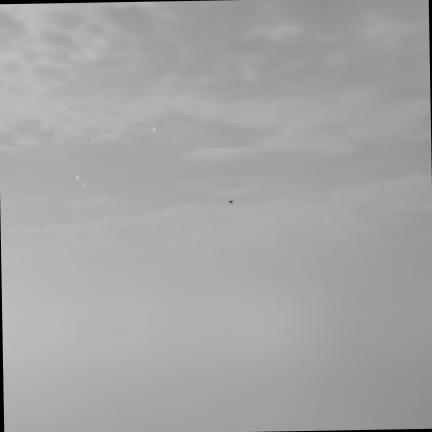Shahed: (229, 200, 233, 202)
